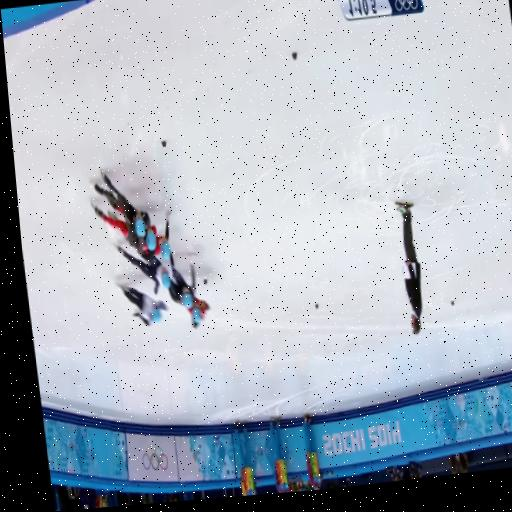Skater: (93, 203, 170, 258), (95, 169, 146, 235), (117, 245, 173, 292), (119, 283, 167, 323), (169, 253, 195, 308), (189, 295, 210, 328)
